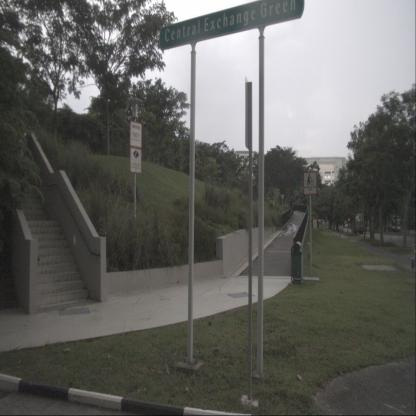vehicle-bus-rigid: (351, 213, 365, 234)
vehicle-truck: (386, 216, 401, 232)
